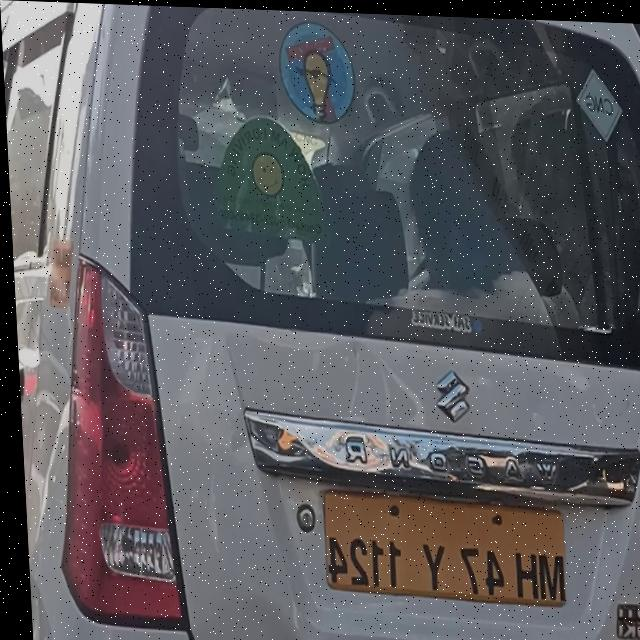plate: (316, 485, 564, 603)
